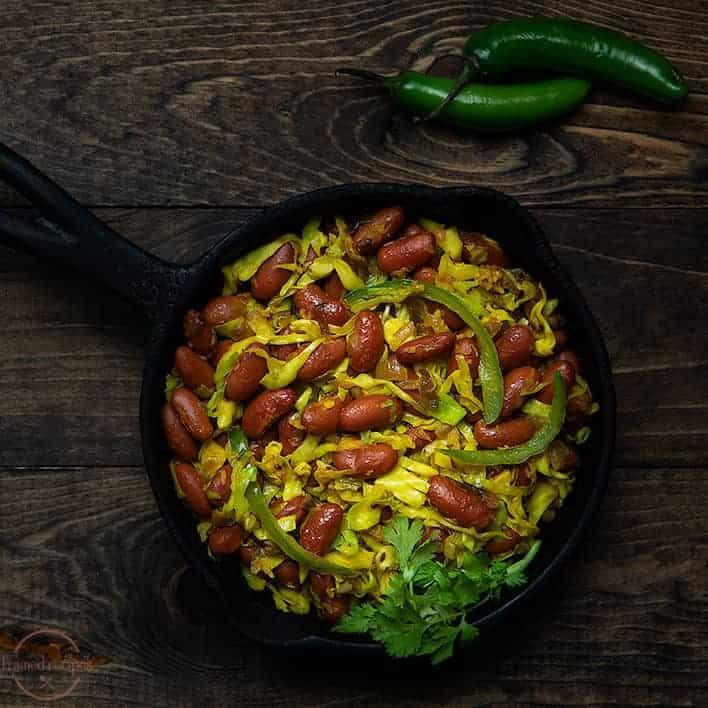RajmaCurry: (168, 207, 592, 644)
